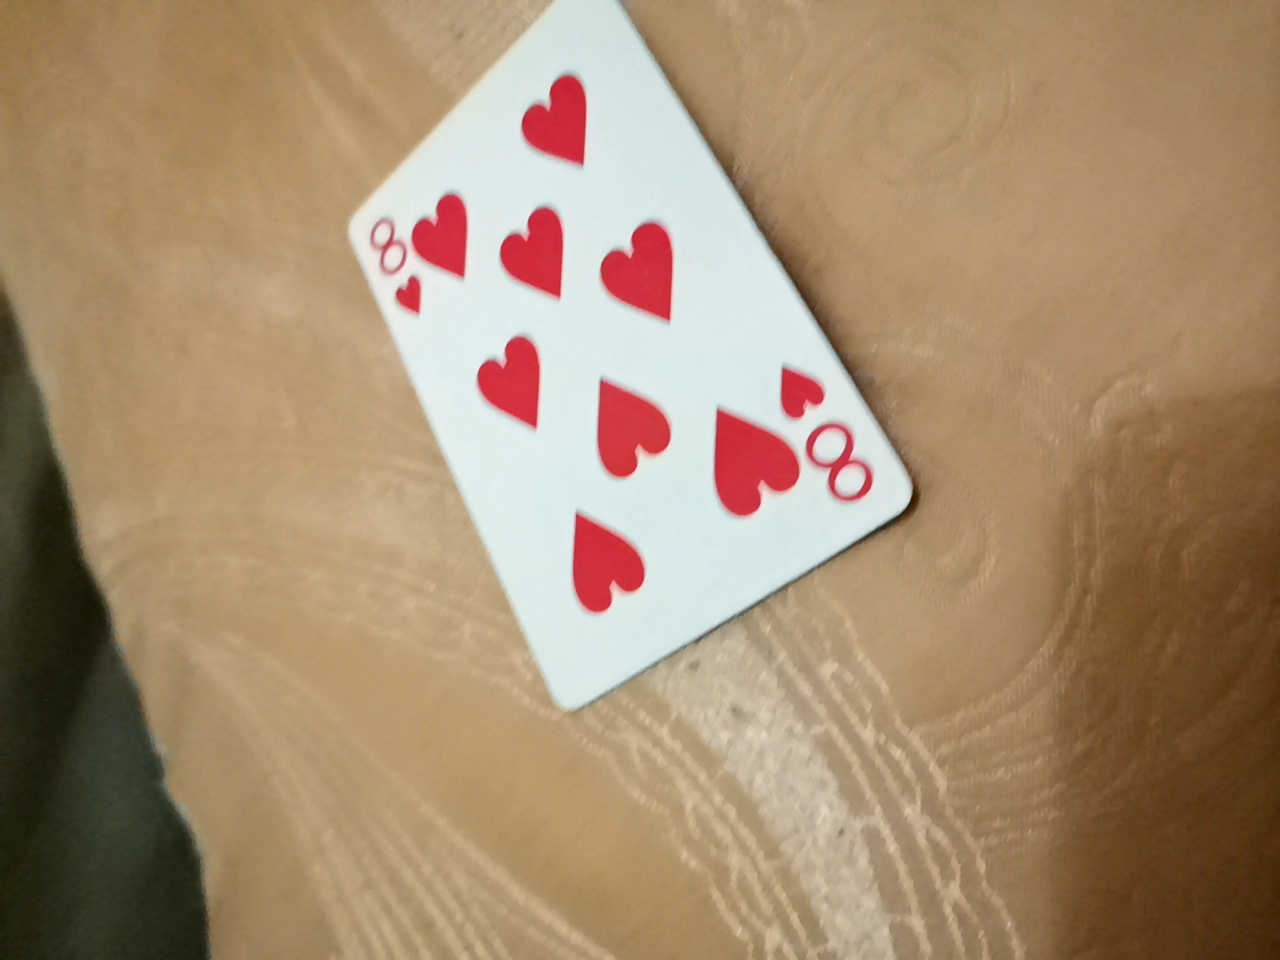hx 8: (351, 28, 901, 783)
